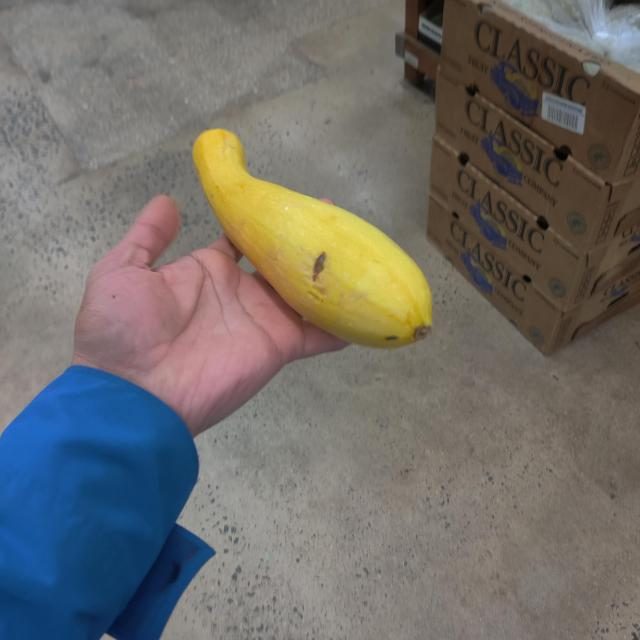Squash: (180, 124, 453, 358)
